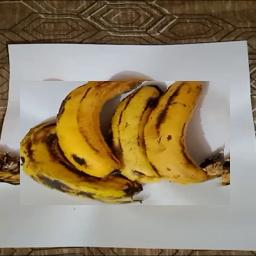Banana Semifresh: (20, 81, 230, 205)
